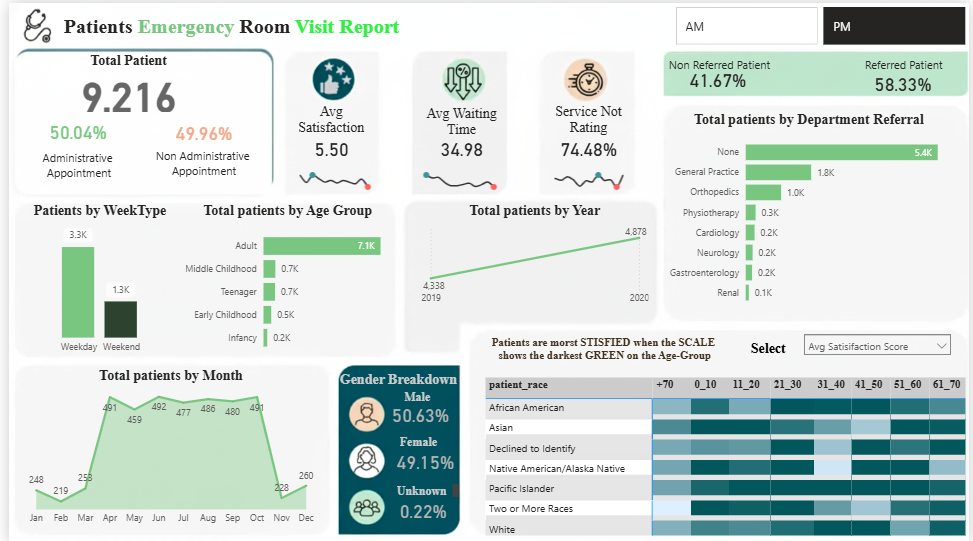

The page's visual inventory and layout, read from the dashboard file:
{"tool":"powerbi","page":{"name":"Page 1","canvas":[1280,720],"ordinal":0},"visuals":[{"type":"card","title":"Total Patient","fields":{"Values":["calculation.Total patients"]},"box":[48.8,65.1,222.8,84.6],"z":0},{"type":"card","fields":{"Values":["calculation.% Administrative Schedual"]},"box":[37.4,149.6,107.4,43.9],"z":1000},{"type":"card","fields":{"Values":["calculation.% Non - Administrative Schedual"]},"box":[209.8,149.6,99.2,45.5],"z":2000},{"type":"pivotTable","fields":{"Values":["calculation.Average Satisifaction Score"],"Rows":["Paitients Datasets.patient_race"],"Columns":["Paitients Datasets.Age Buckets"]},"box":[630,494,650,226],"z":3000},{"type":"slicer","fields":{"Values":["Parameter.Parameter"]},"box":[1050,432,216,54],"z":4000},{"type":"clusteredBarChart","fields":{"Category":["Paitients Datasets.Age Group"],"Y":["calculation.Total patients"]},"box":[221.2,266.8,299.3,209.8],"z":5000},{"type":"areaChart","fields":{"Category":["Date.Month"],"Y":["calculation.Total patients","select"]},"box":[18,486,396,218],"z":6000},{"type":"advancedSlicerVisual","fields":{"Values":["Paitients Datasets.Moment"]},"box":[884,0,396,60],"z":7000},{"type":"lineChart","fields":{"Category":["Date.Year"],"Y":["calculation.Total patients"]},"box":[543.3,266.8,313.9,144.8],"z":8000},{"type":"clusteredBarChart","title":"Total patients by Department Referral","fields":{"Category":["Paitients Datasets.department_referral"],"Y":["calculation.Total patients"]},"box":[868.6,143.1,396.9,268.4],"z":9000},{"type":"card","fields":{"Values":["calculation.HitMap Caption"]},"box":[612,432,364,58],"z":10000},{"type":"textbox","box":[37.4,190.3,110.6,50.4],"z":11000},{"type":"textbox","box":[182.2,188.7,156.1,52],"z":12000},{"type":"card","title":"Avg Satisfaction","fields":{"Values":["calculation.Average Satisifaction Score"]},"box":[380.6,133.4,99.2,78.1],"z":13000},{"type":"card","title":"Avg Waiting Time","fields":{"Values":["calculation.Average of Waiting Time"]},"box":[543.3,136.6,118.7,74.8],"z":14000},{"type":"card","title":"Service Not Rating","fields":{"Values":["calculation.% No Rating"]},"box":[709.2,133.4,125.2,79.7],"z":15000},{"type":"card","fields":{"Values":["calculation.% Referred Patients"]},"box":[893,84.6,105.7,37.4],"z":16000},{"type":"card","fields":{"Values":["calculation.% Un .Referred Patients"]},"box":[1132.1,91.1,118.7,30.9],"z":17000},{"type":"textbox","box":[865.3,65.1,162.7,39],"z":18000},{"type":"textbox","box":[1119.1,65.1,146.4,43.9],"z":19000},{"type":"lineStackedColumnComboChart","title":"Patients by WeekType","fields":{"Category":["Date.WeekType"],"Y":["calculation.Total patients"]},"box":[13,266.8,214.7,209.8],"z":20000},{"type":"card","fields":{"Values":["calculation.% Male Visit"]},"box":[502,530,92,38],"z":21000},{"type":"card","fields":{"Values":["calculation.% Female Visit"]},"box":[508,596,94,30],"z":22000},{"type":"card","fields":{"Values":["calculation.% Unkown Visit"]},"box":[510,650,84,54],"z":23000},{"type":"PBI_CV_25997FEB_F466_44FA_B562_AC4063283C4C","fields":{"axis":["Date.Month"],"measure":["calculation.Average of Waiting Time"]},"box":[538.4,211.5,130.1,43.9],"z":24000},{"type":"PBI_CV_25997FEB_F466_44FA_B562_AC4063283C4C","fields":{"measure":["calculation.Average Satisifaction Score"],"axis":["Date.Month"]},"box":[370.9,211.5,130.1,43.9],"z":25000},{"type":"PBI_CV_25997FEB_F466_44FA_B562_AC4063283C4C","fields":{"axis":["Date.Month"],"measure":["calculation.% No Rating"]},"box":[709.2,211.5,130.1,43.9],"z":26000},{"type":"textbox","box":[436,486,196,44],"z":27000},{"type":"textbox","box":[522,510,72,42],"z":28000},{"type":"textbox","box":[516,570,72,42],"z":29000},{"type":"textbox","box":[512,636,92,28],"z":30000},{"type":"textbox","box":[984,444,66,34],"z":31000},{"type":"textbox","box":[68,10,490,50],"z":32000}]}

Visuals, with their boxes in screenshot pixels (x1, y1, x2, y2), scaled from the page's 1280x720 canvas onto the 973x541 screenshot:
"Total Patient" card: [37,49,206,112]
card - calculation.% Administrative Schedual: [28,112,110,145]
card - calculation.% Non - Administrative Schedual: [159,112,235,147]
pivotTable - calculation.Average Satisifaction Score x Paitients Datasets.patient_race: [479,371,972,540]
slicer - Parameter.Parameter: [798,325,962,365]
clusteredBarChart - Paitients Datasets.Age Group x calculation.Total patients: [168,200,396,358]
areaChart - Date.Month x calculation.Total patients: [14,365,315,529]
advancedSlicerVisual - Paitients Datasets.Moment: [672,0,972,45]
lineChart - Date.Year x calculation.Total patients: [413,200,652,309]
"Total patients by Department Referral" clusteredBarChart: [660,108,962,309]
card - calculation.HitMap Caption: [465,325,742,368]
textbox: [28,143,113,181]
textbox: [139,142,257,181]
"Avg Satisfaction" card: [289,100,365,159]
"Avg Waiting Time" card: [413,103,503,159]
"Service Not Rating" card: [539,100,634,160]
card - calculation.% Referred Patients: [679,64,759,92]
card - calculation.% Un .Referred Patients: [861,68,951,92]
textbox: [658,49,781,78]
textbox: [851,49,962,82]
"Patients by WeekType" lineStackedColumnComboChart: [10,200,173,358]
card - calculation.% Male Visit: [382,398,452,427]
card - calculation.% Female Visit: [386,448,458,470]
card - calculation.% Unkown Visit: [388,488,452,529]
PBI_CV_25997FEB_F466_44FA_B562_AC4063283C4C - Date.Month x calculation.Average of Waiting Time: [409,159,508,192]
PBI_CV_25997FEB_F466_44FA_B562_AC4063283C4C - calculation.Average Satisifaction Score x Date.Month: [282,159,381,192]
PBI_CV_25997FEB_F466_44FA_B562_AC4063283C4C - Date.Month x calculation.% No Rating: [539,159,638,192]
textbox: [331,365,480,398]
textbox: [397,383,452,415]
textbox: [392,428,447,460]
textbox: [389,478,459,499]
textbox: [748,334,798,359]
textbox: [52,8,424,45]
